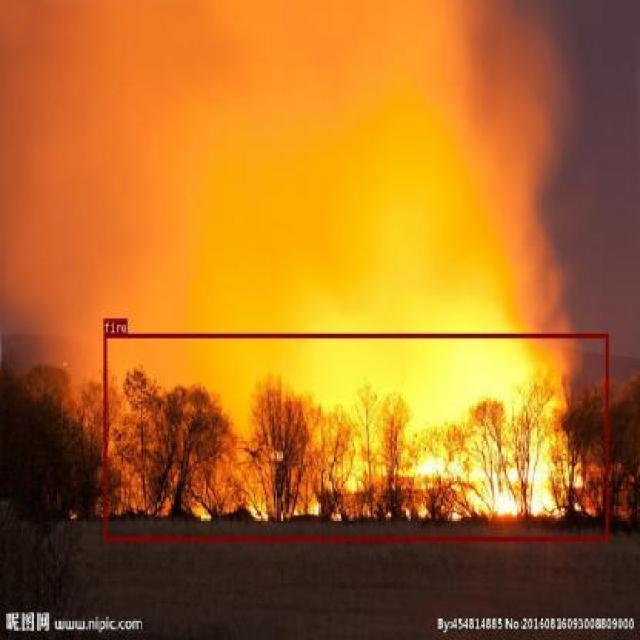Fire: (356, 208, 505, 437)
